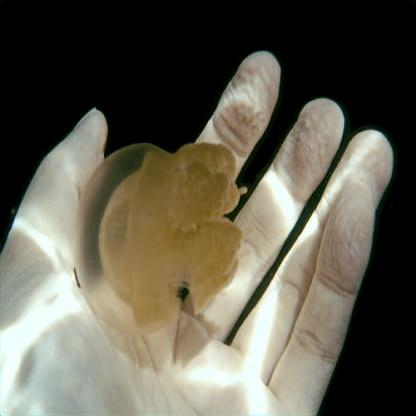Handstand: (71, 141, 251, 337)
